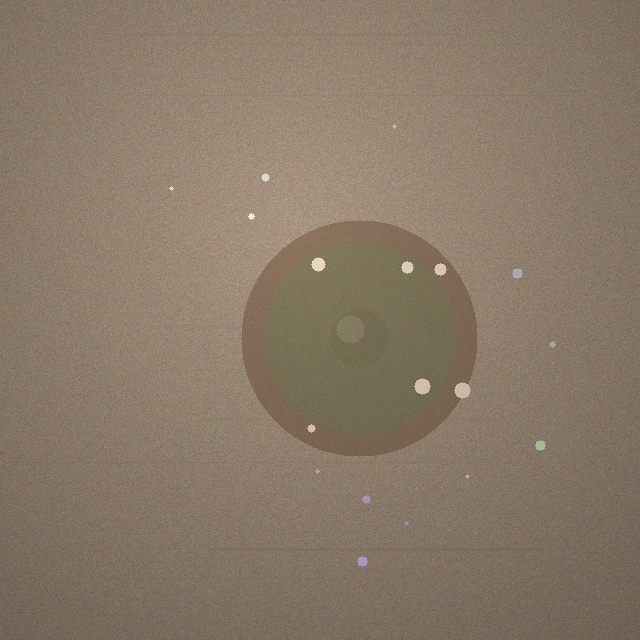overburn: (241, 220, 477, 456)
